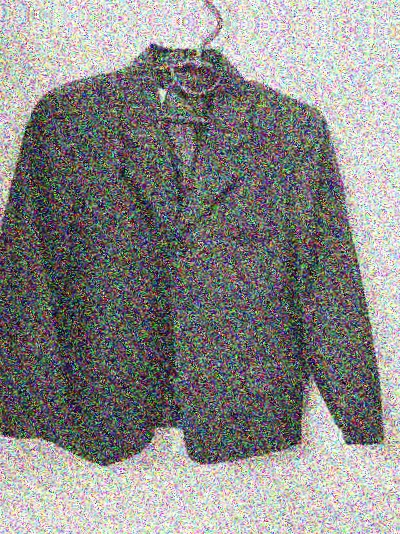Blazer: (0, 37, 400, 500), (11, 0, 400, 8)
